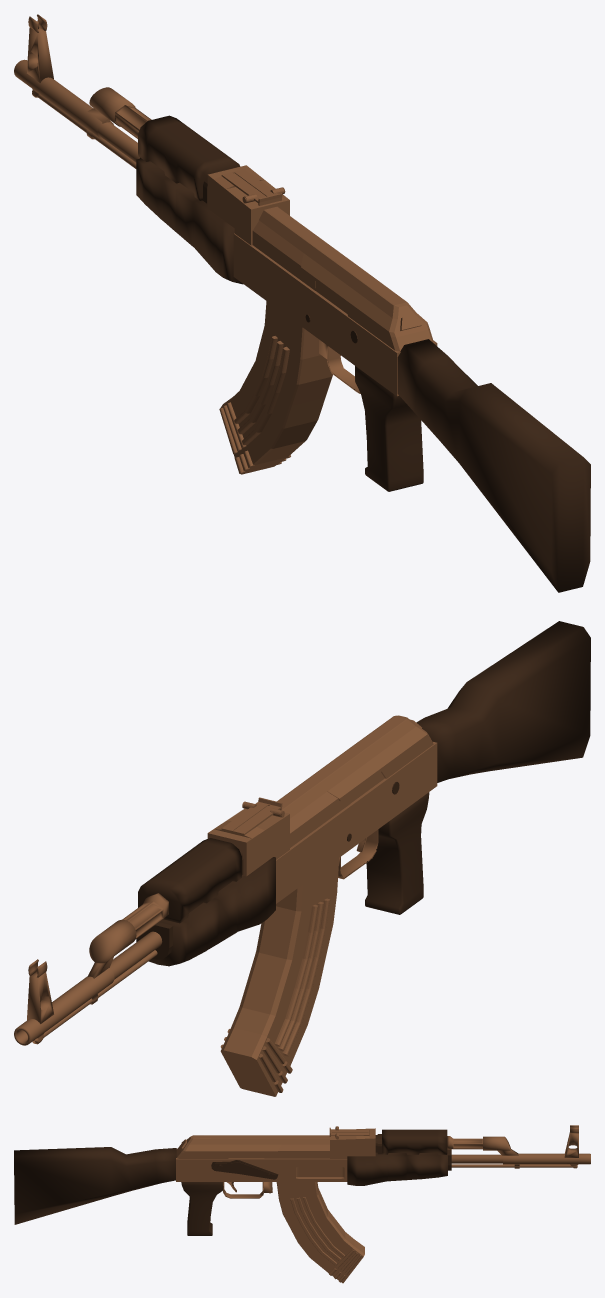
File: ak weapon.fbx
3 views of the same model, one above another, from view 1: azimuth 30°, elevation 25°; view 2: azimuth 150°, elevation 25°; view 3: azimuth 270°, elevation 25° (orthographic). The views are drawn at different scales.
Parts seen in each view (by area): view 1: Cube.014; view 2: Cube.014; view 3: Cube.014.
Part boxes in pixels (left/top/right/bottom): Cube.014: left=14, top=14, right=590, bottom=592; Cube.014: left=14, top=621, right=590, bottom=1096; Cube.014: left=14, top=1125, right=590, bottom=1283.
Size of the model in its own units: 53.8 by 318 by 1088.
